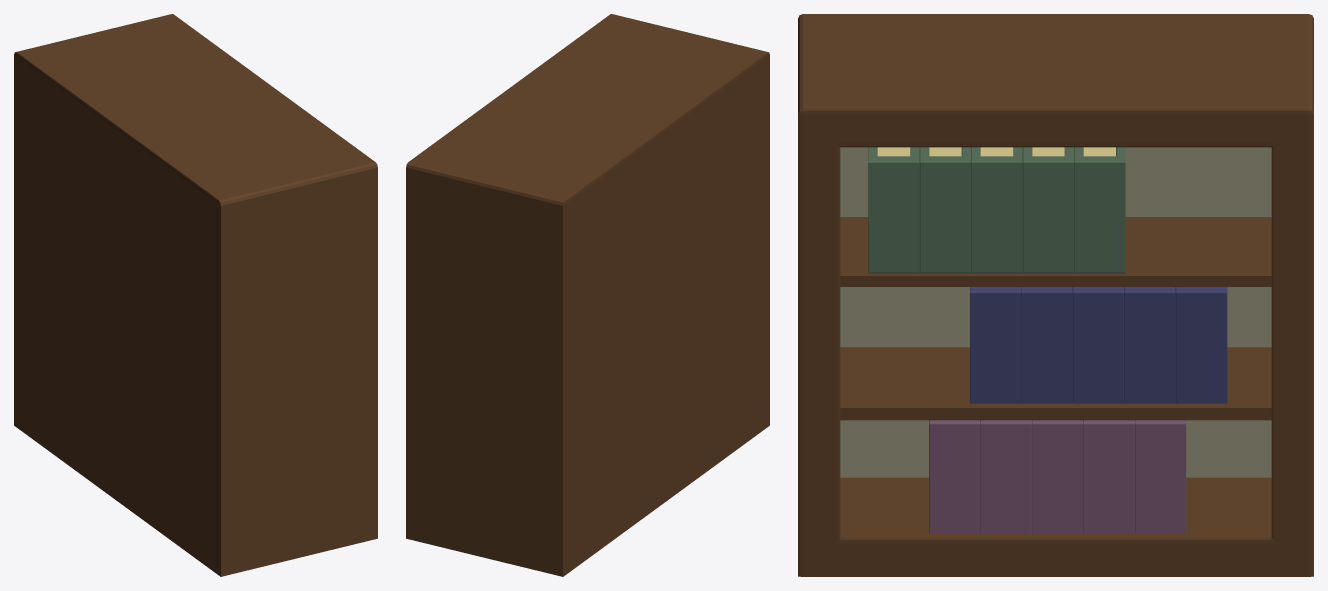
Rendered from bookshelf1.glb.
3 views of the same model, side by side, from view 1: azimuth 30°, elevation 25°; view 2: azimuth 150°, elevation 25°; view 3: azimuth 270°, elevation 25° (orthographic). The views are drawn at different scales.
Parts seen in each view (by area): view 1: bookshelf1; view 2: bookshelf1; view 3: bookshelf1.
Boxes of the visible parts, <box> form: bookshelf1: <box>14,14,377,576</box>; bookshelf1: <box>406,14,769,576</box>; bookshelf1: <box>798,14,1313,576</box>.
Bounding box in the file's own units: 0.8804 × 2 × 2.
